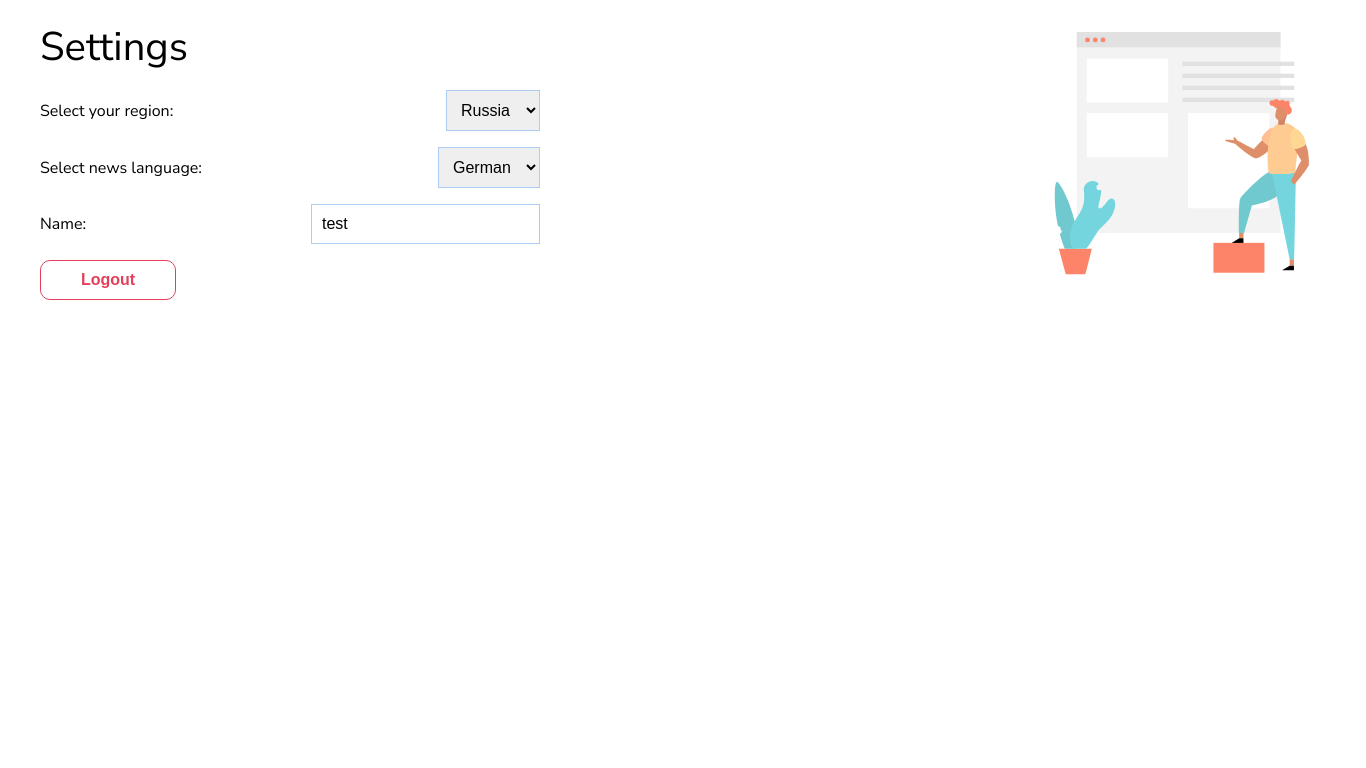
Test: PROFILE › should logout after the logout-button press
This screenshot has width=1366, height=768.
Click the button "Logout": {"x": 108, "y": 280} [40,260,176,300]
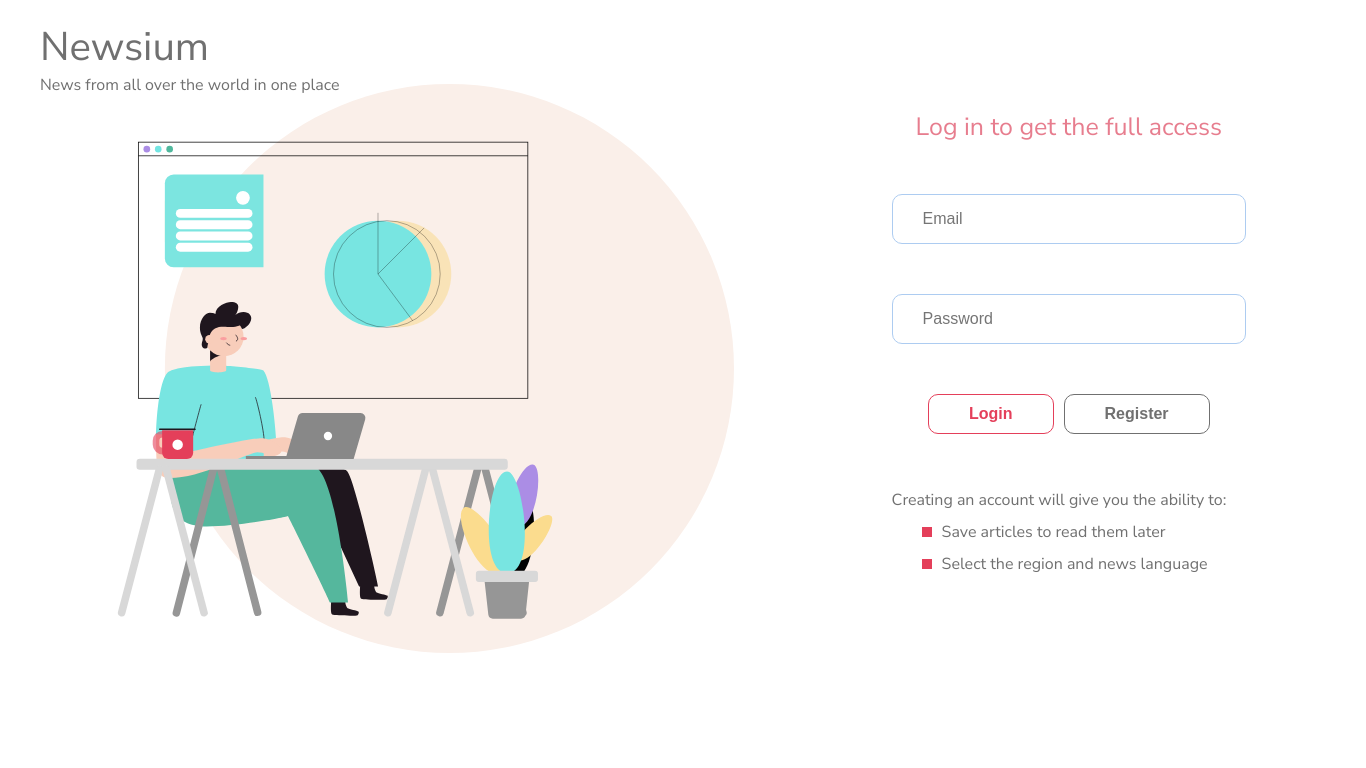
Expected: the heading "Settings" is gone
Expected: the heading "Newsium" is shown, [40,20,209,74]
Expected: the form is shown, [892,194,1246,484]
